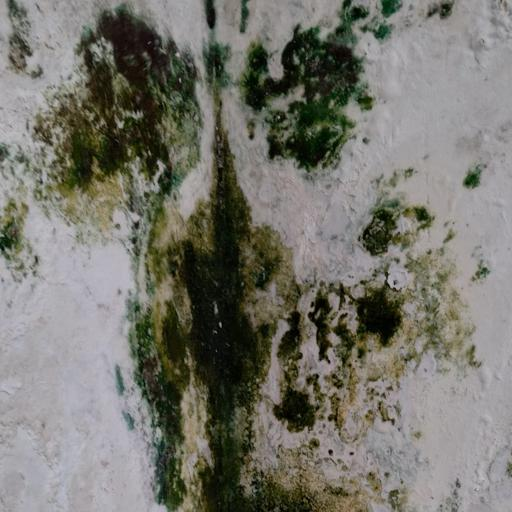algae: (49, 10, 481, 512)
